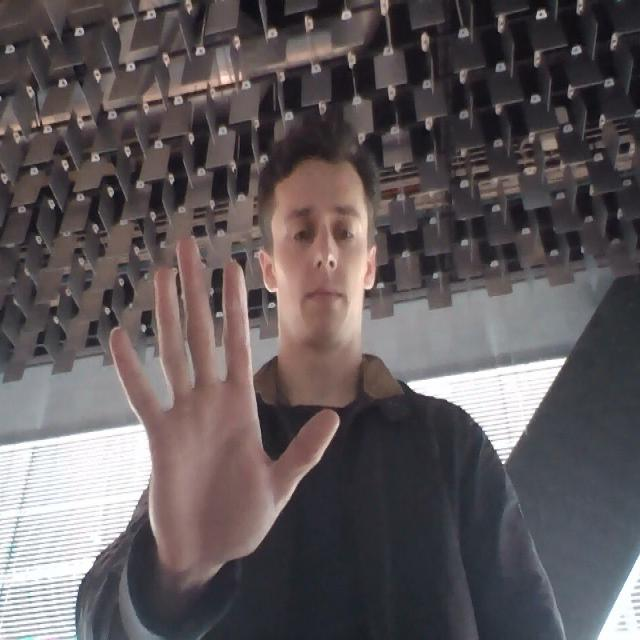backward: (92, 215, 368, 576)
